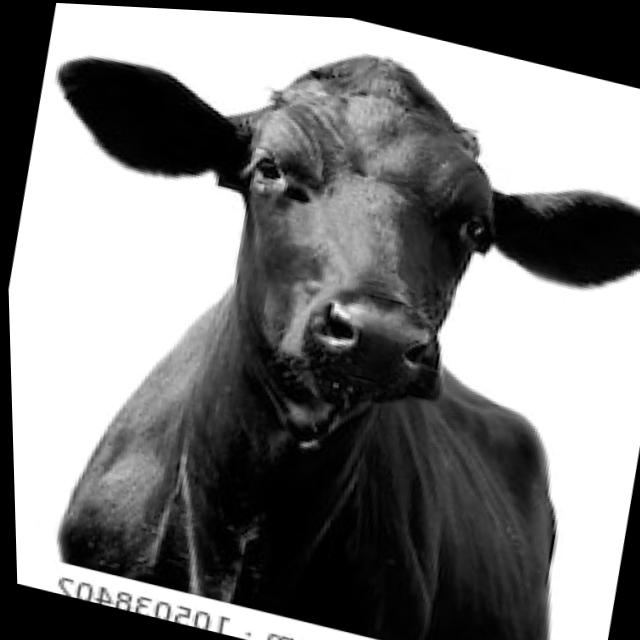cowFace: (7, 0, 640, 469)
